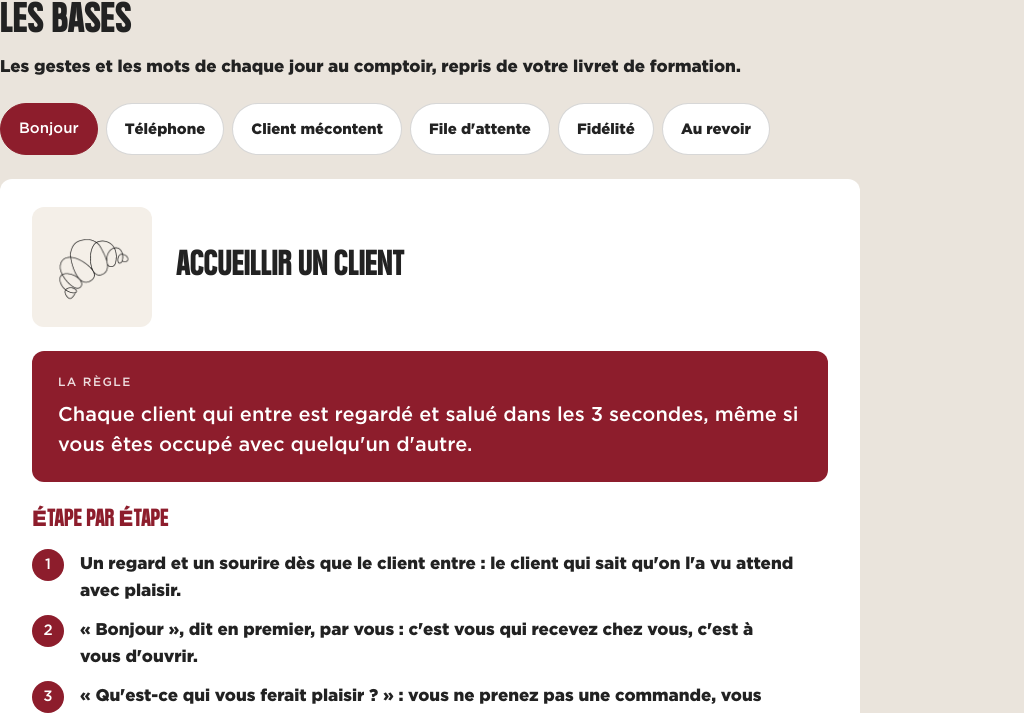
Test: BasesView › a chip shows its topic
Click the button "Téléphone": point(165, 129) [106,103,224,155]
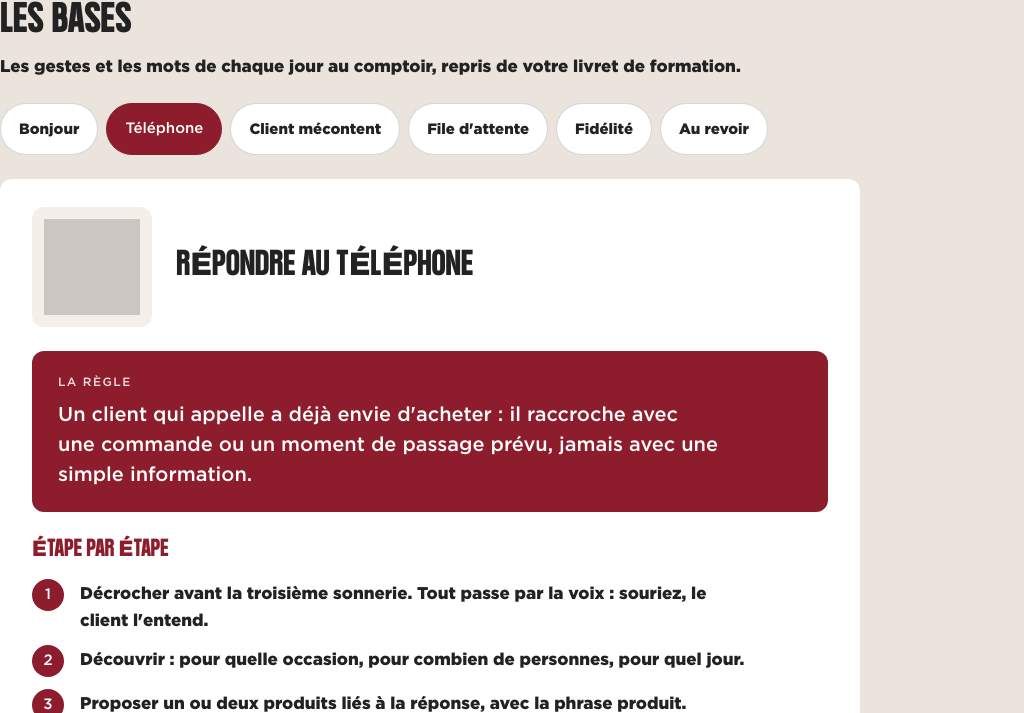
Check: the heading "Répondre au téléphone" is shown, box [176,247,474,286]
Click the button "Fidélité": point(604, 129) [556,103,652,155]
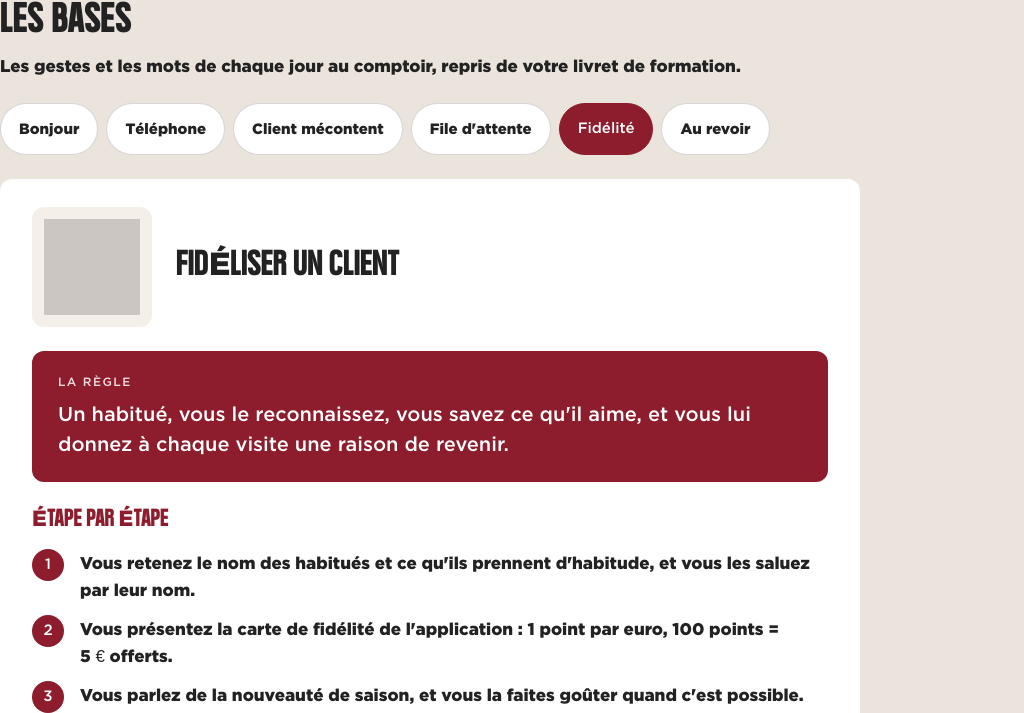
Check: the heading "Fidéliser un client" is shown, box [176,247,400,286]
Check: the text "1 point par euro, 100 points = 5 € offerts" is shown, box [80,619,779,665]
Click the button "Au revoir": point(716, 129) [662,103,770,155]
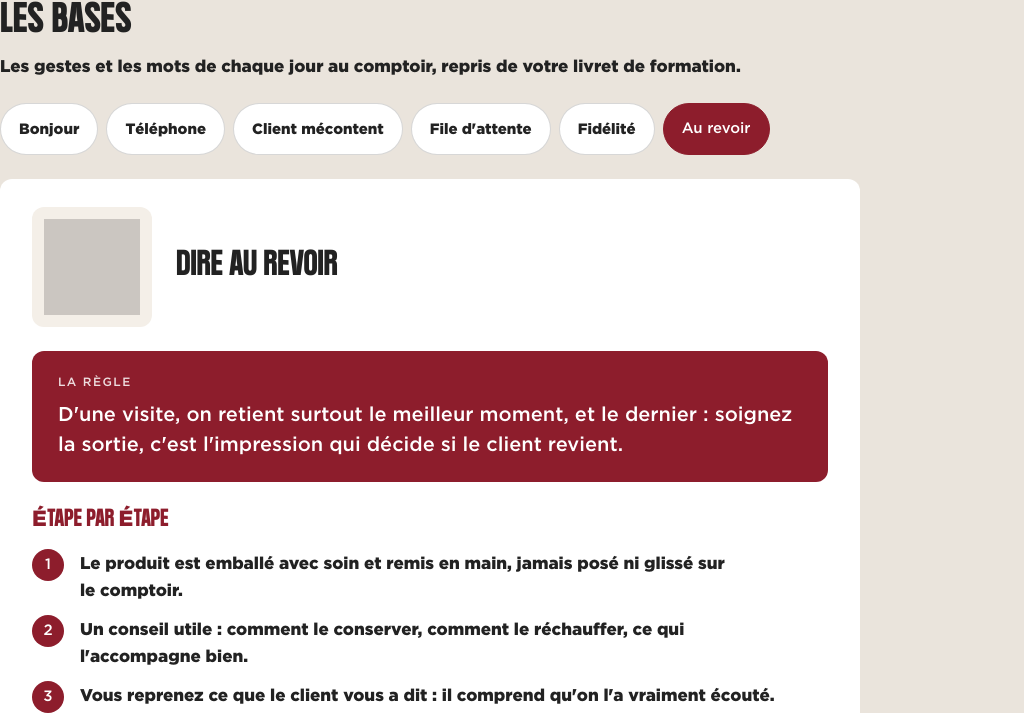
Check: the heading "Dire au revoir" is shown, box [176,247,338,286]
